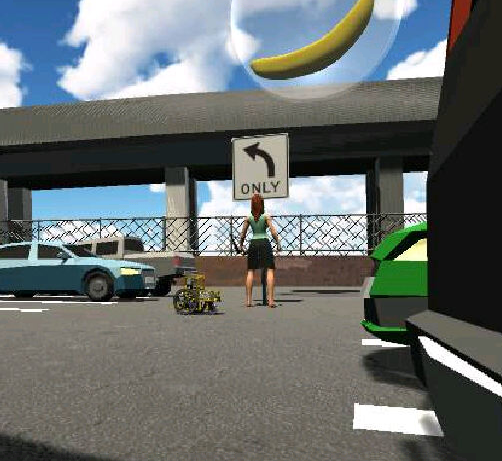arrow_left: (240, 140, 282, 179)
